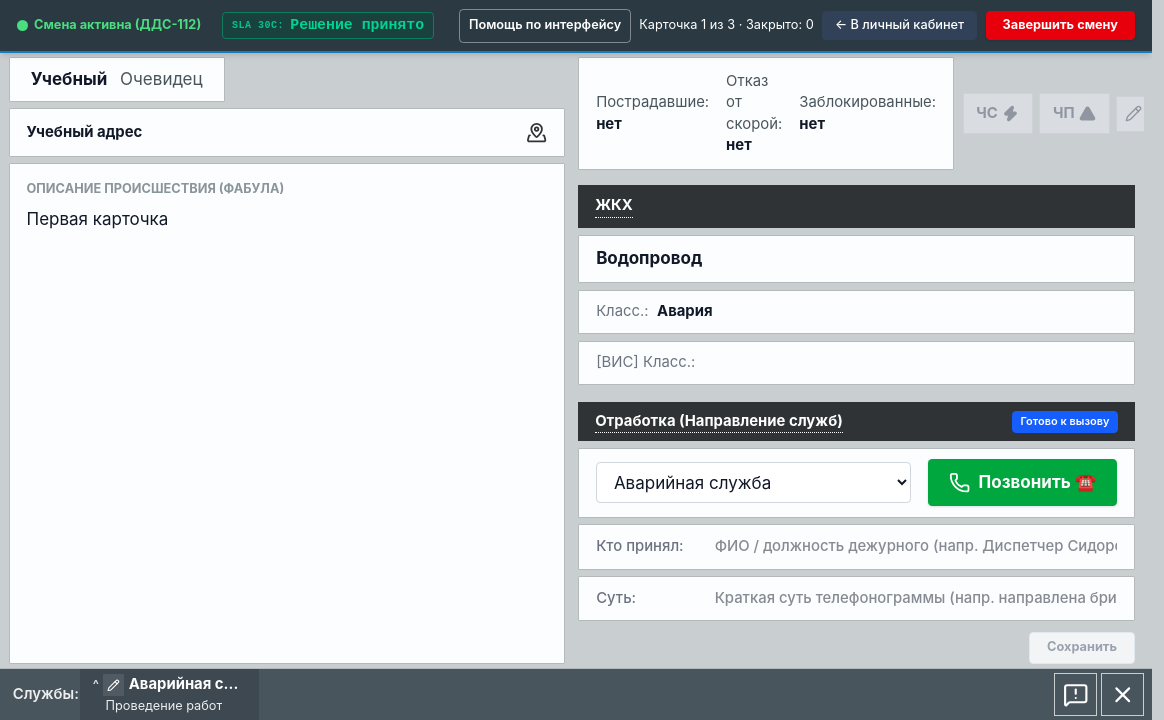
it: closes only the current card, resets drafts, and restores the advanced card after reload
Later steps or results of the test are not shown.
Type "Черновик первой" into the field named "Кто принял" at [916, 547], box [715, 536, 1117, 558]
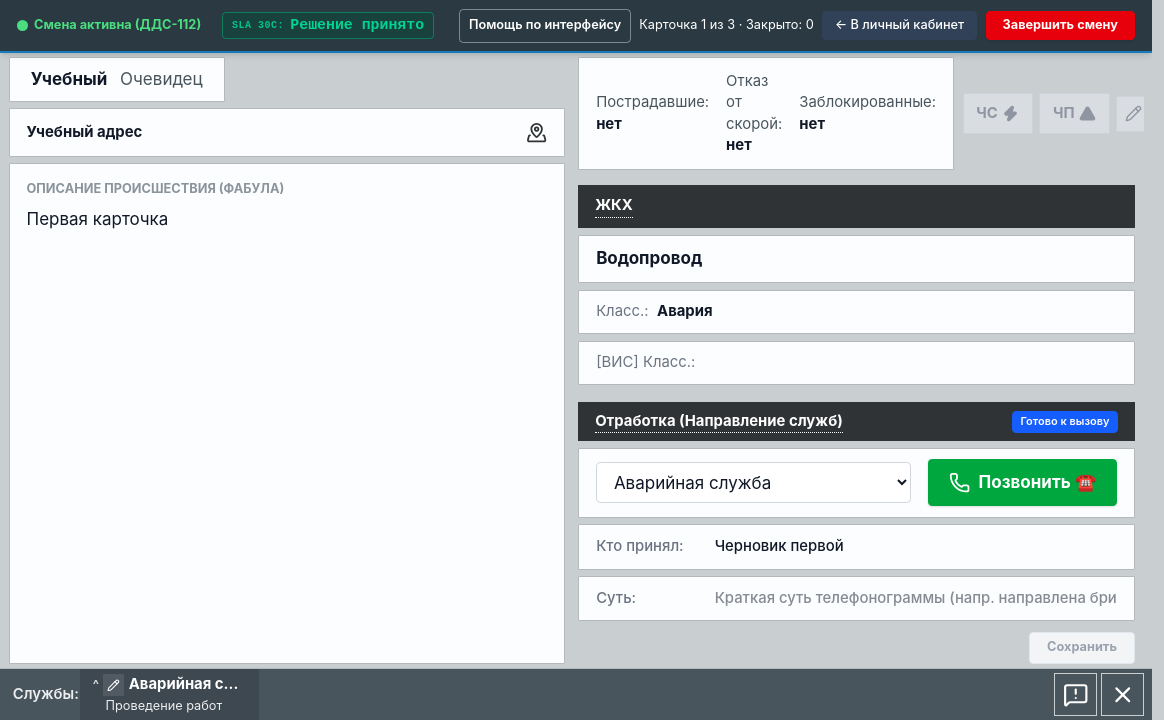
Click the button named "Отработана" at [1076, 695], box [1054, 673, 1097, 716]
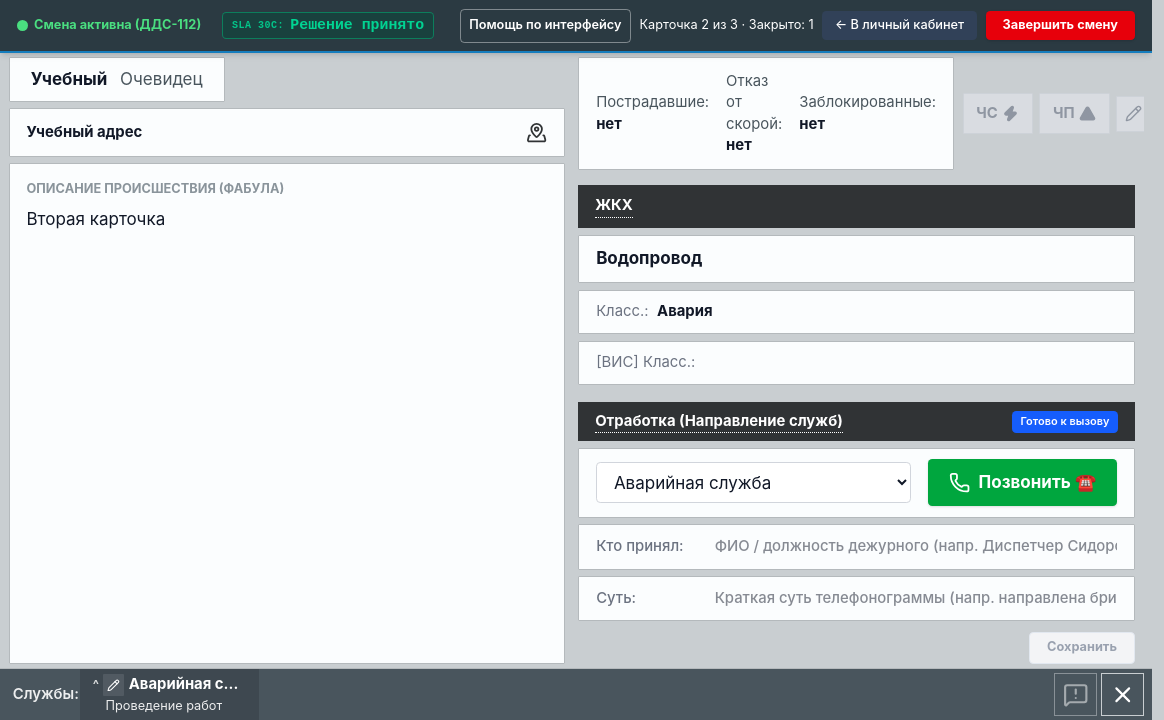
Check: the field showing "Черновик первой" is not shown
Check: the text "Вторая карточка" is shown, box [26, 209, 165, 229]
Check: the button named "Отработана" is disabled, box [1054, 673, 1097, 716]
